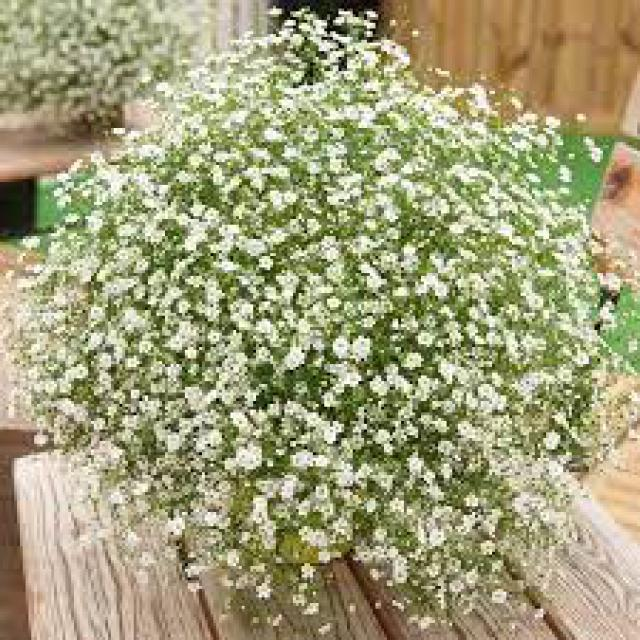gypsophila: (89, 36, 592, 598)
